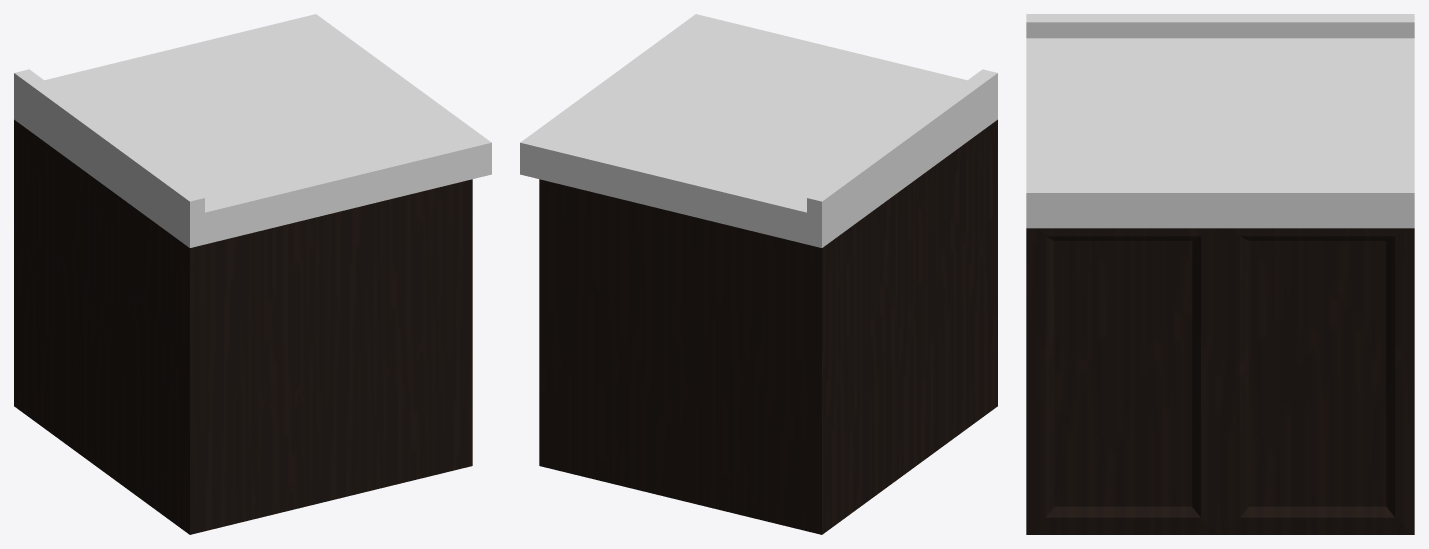
Rendered from Counter.fbx.
3 views of the same model, side by side, from view 1: azimuth 30°, elevation 25°; view 2: azimuth 150°, elevation 25°; view 3: azimuth 270°, elevation 25° (orthographic). The views are drawn at different scales.
Visible parts, largest first — view 1: Cube.002; view 2: Cube.002; view 3: Cube.002.
Part boxes in pixels (left/top/right/bottom): Cube.002: left=14, top=14, right=491, bottom=534; Cube.002: left=520, top=14, right=997, bottom=534; Cube.002: left=1026, top=14, right=1414, bottom=534.
Size of the model in its own units: 198 by 209 by 200.
Materials: 2 (1 with a texture image).
